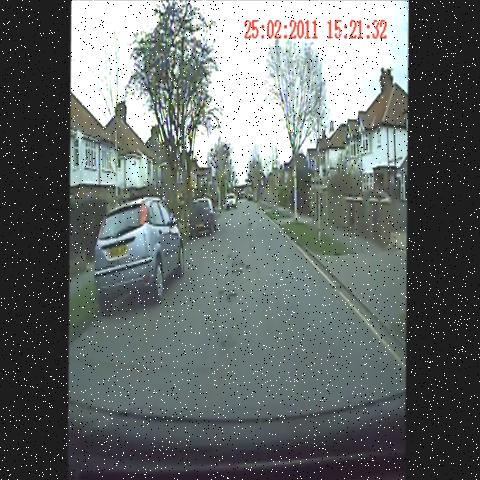pothole: (223, 246, 254, 280), (215, 273, 242, 311), (218, 327, 242, 353), (244, 220, 258, 234)
